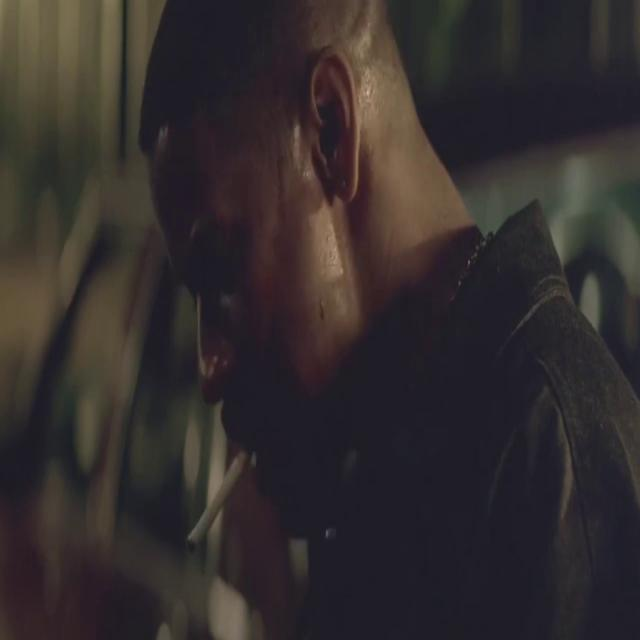Smooking: (180, 448, 254, 550)
